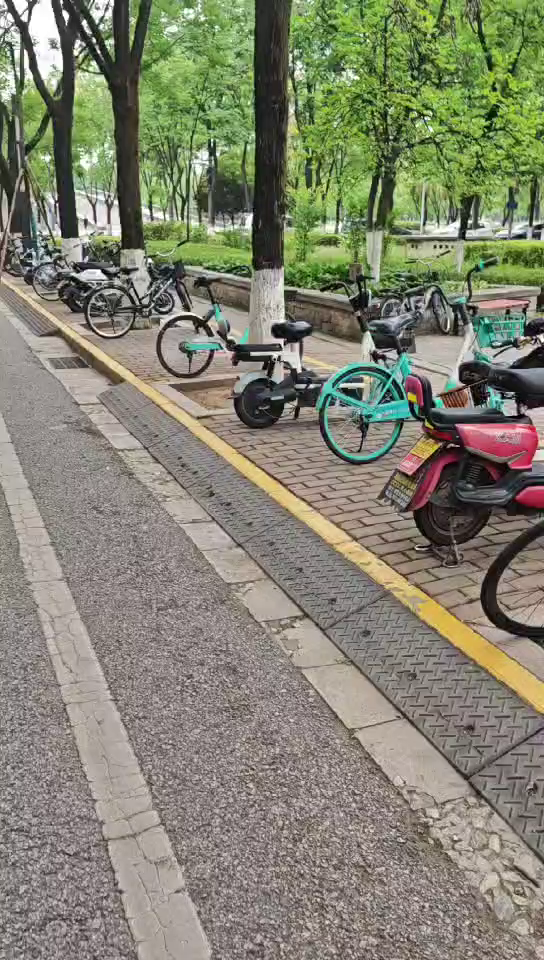others: (400, 343, 544, 563), (231, 276, 408, 423), (85, 259, 195, 331)
shared_bike_qingcong: (317, 272, 511, 463), (158, 259, 293, 373)
